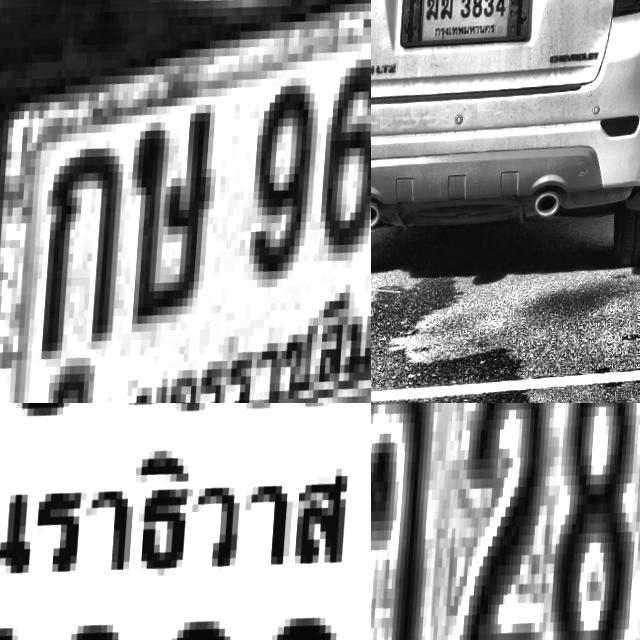license-plate: (0, 0, 371, 403), (0, 403, 371, 640), (371, 403, 640, 640), (407, 0, 523, 60)
